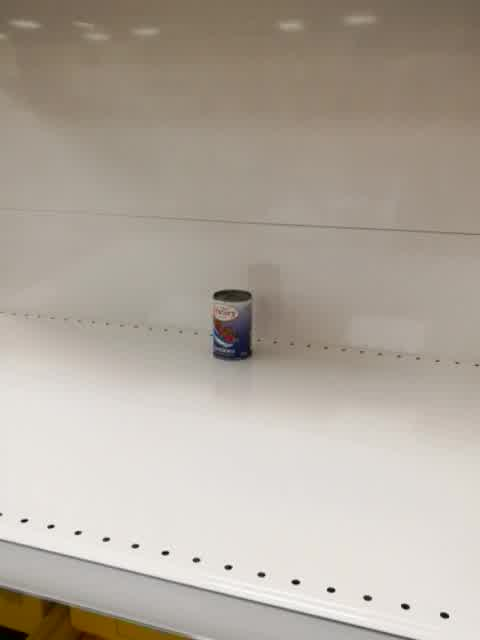sardine: (212, 288, 253, 362)
